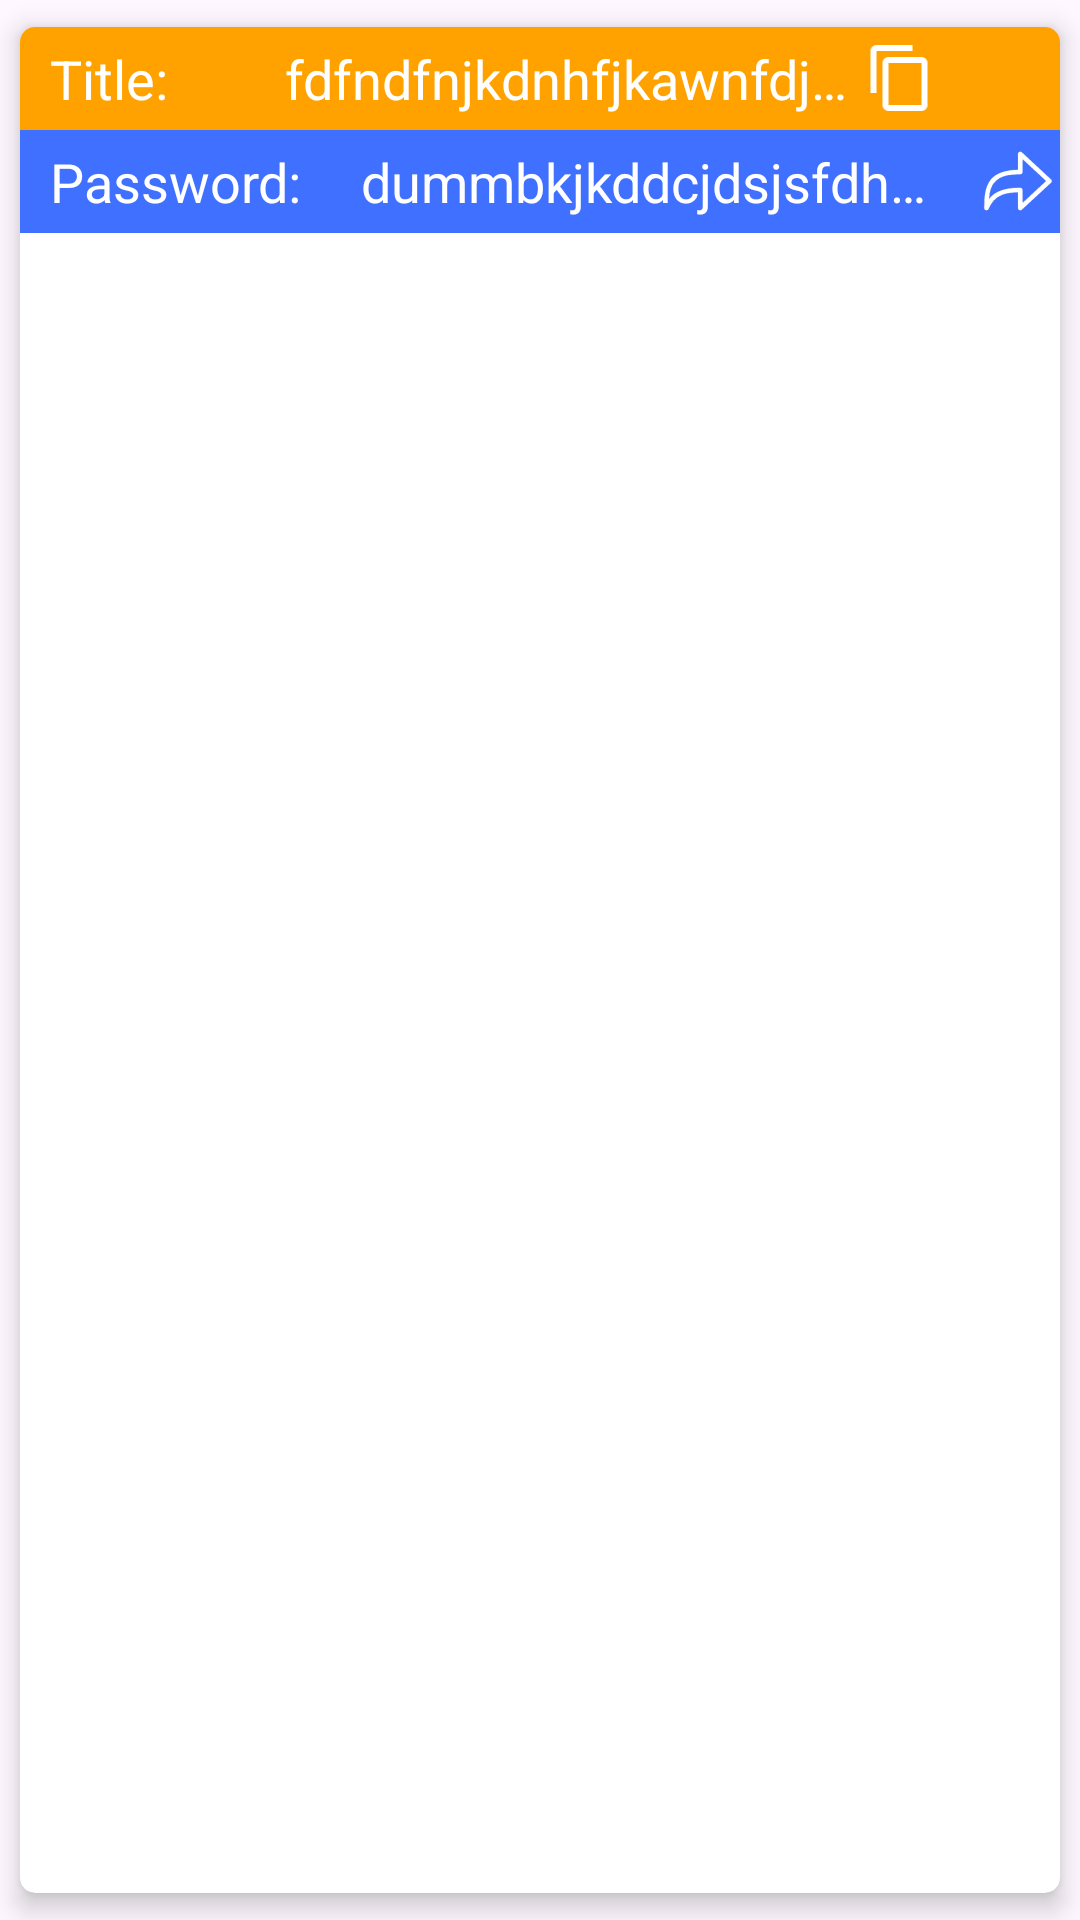

Where icons sit on this 1080*1920 app screen, as (x1,y1,x2,y2):
share: (984,151,1052,211)
